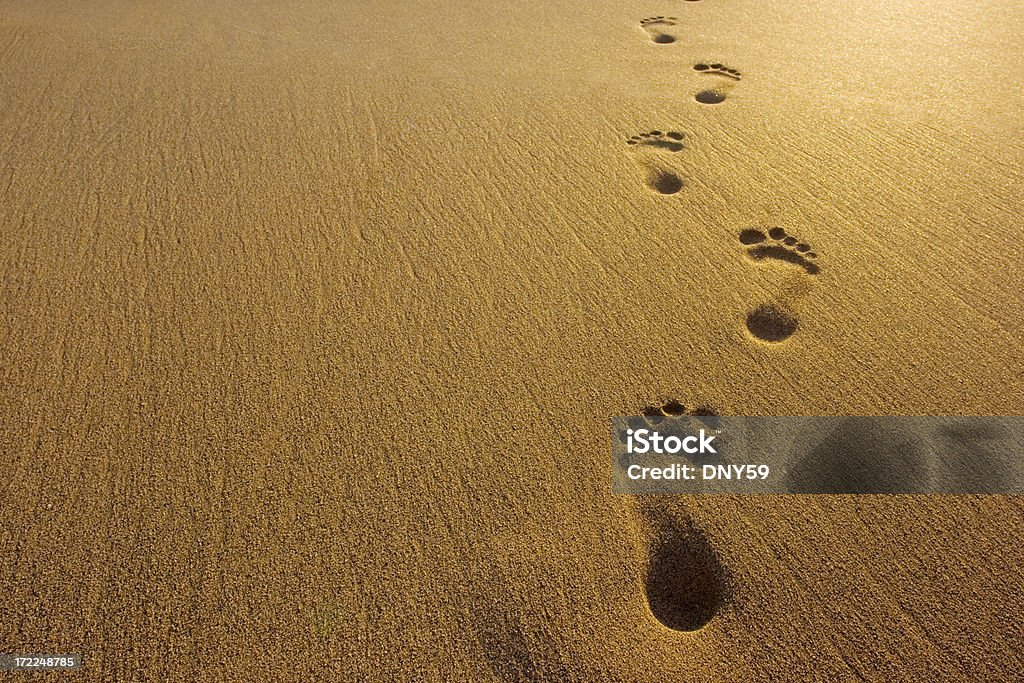human_footprint: (632, 494, 730, 631), (637, 495, 729, 631), (738, 227, 819, 276), (738, 227, 819, 274), (693, 62, 741, 104), (626, 130, 684, 152), (626, 130, 684, 151), (640, 16, 677, 44), (693, 62, 741, 79)
